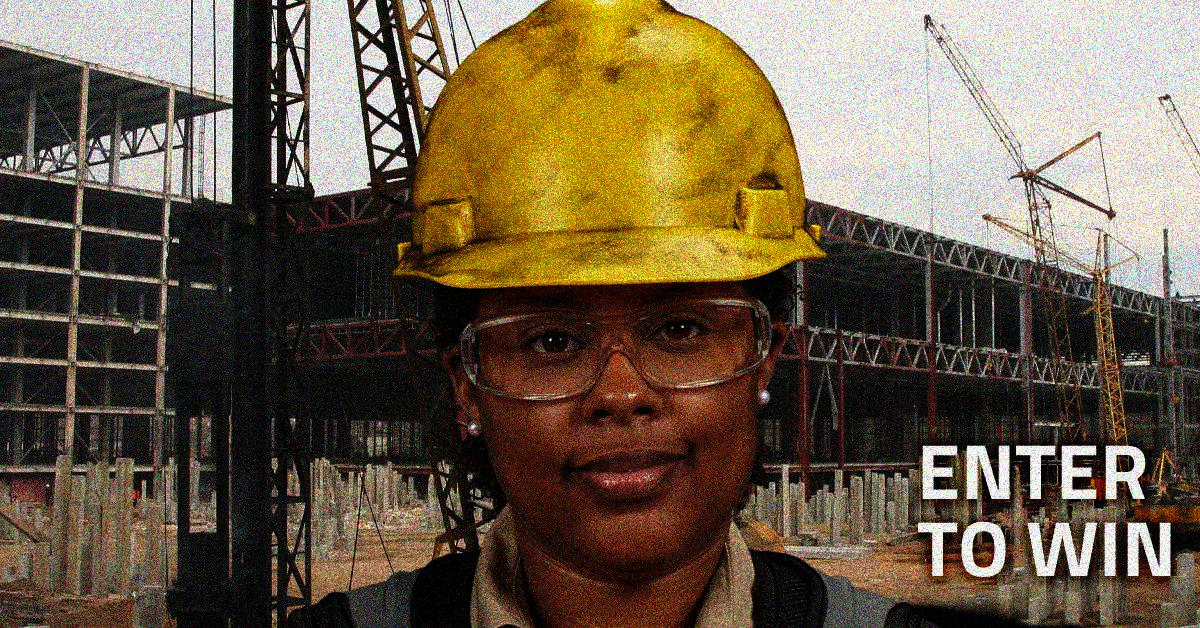helmet: (401, 1, 824, 569)
